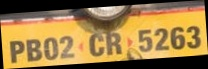character: (87, 31, 106, 57), (24, 37, 43, 62), (57, 34, 76, 59), (105, 30, 122, 57), (42, 36, 60, 61), (137, 28, 154, 53), (169, 26, 186, 51), (9, 40, 26, 64), (153, 27, 170, 51), (185, 24, 202, 48)
